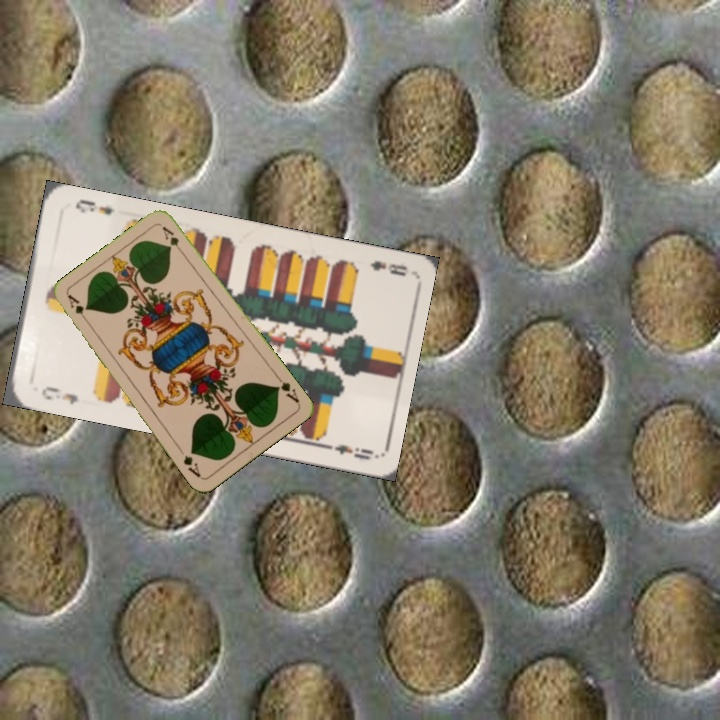E9: (37, 382, 81, 407), (367, 256, 410, 279)
GA: (272, 371, 302, 406), (64, 291, 92, 327)
